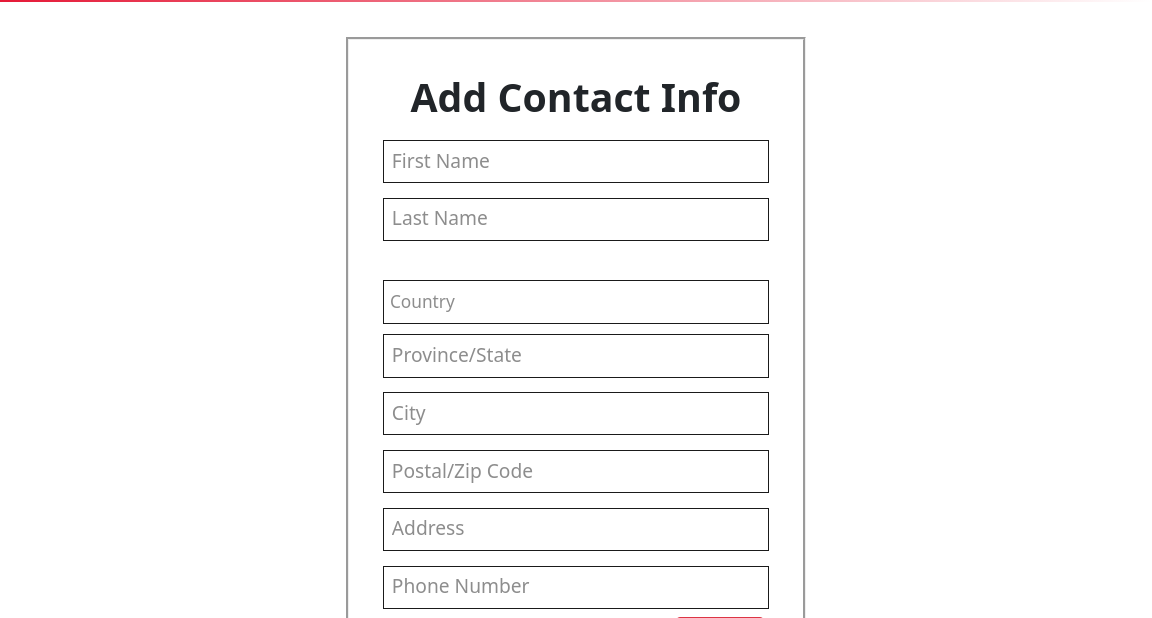
test full name
Type "123badName //\"!%^$#SQLinjection" into the field with placeholder "First Name". click: {"x": 576, "y": 162}
box: x1=383 y1=140 x2=769 y2=183
(page scrolled)
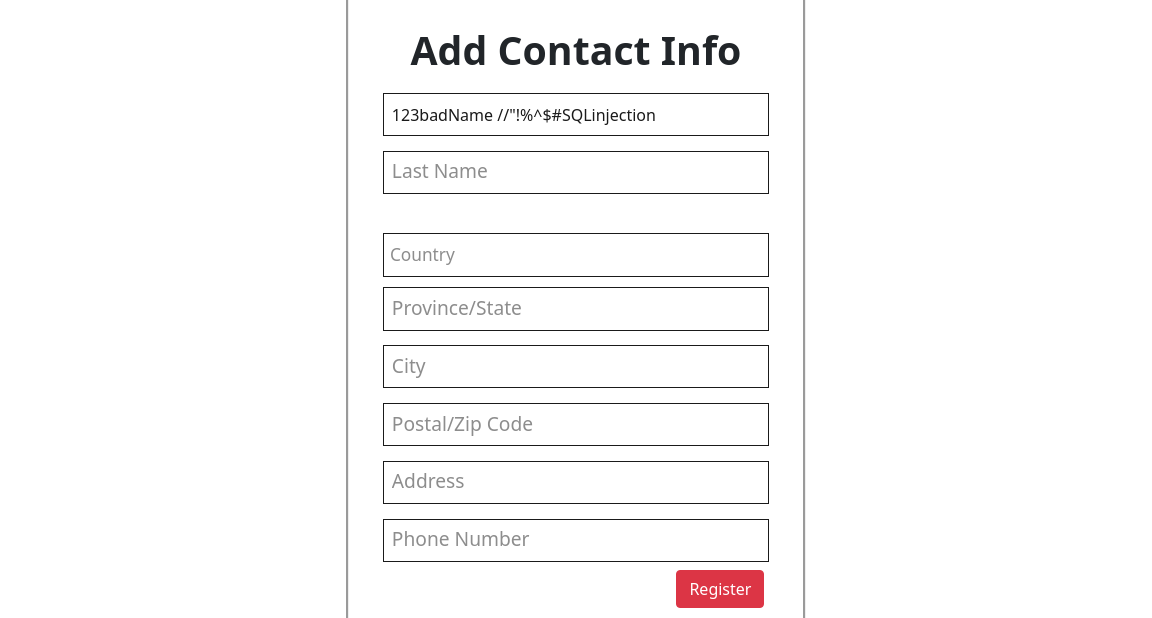
Click the button "Register". click: {"x": 720, "y": 589}
box: x1=676 y1=570 x2=764 y2=608
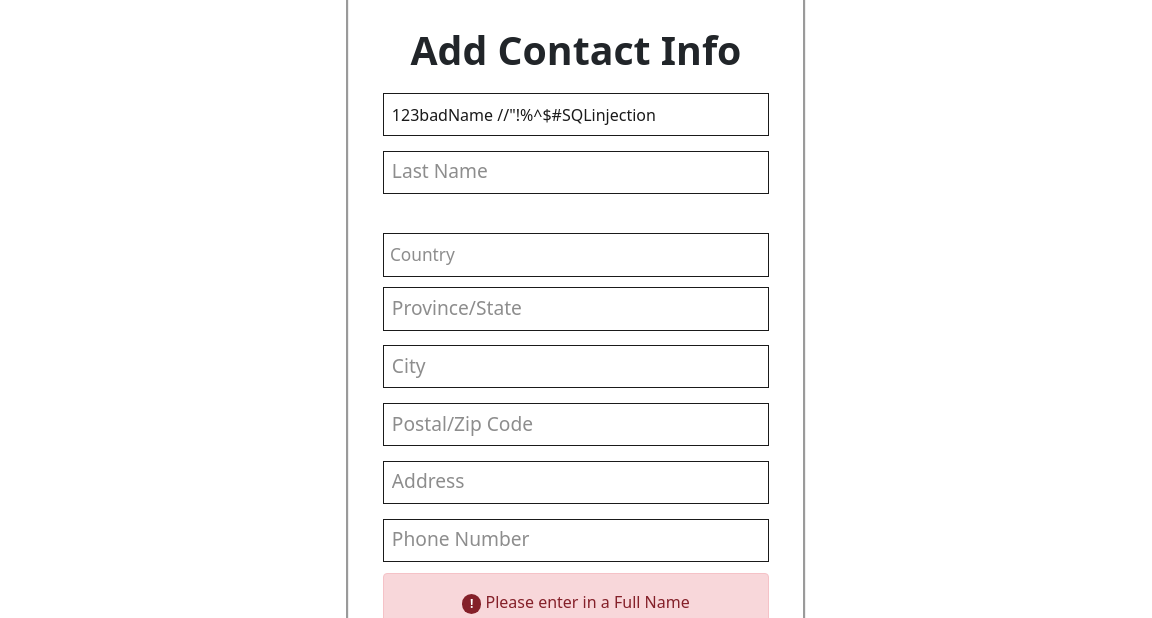
Expected: the text "Please enter in a Full Name" is shown, x1=481 y1=591 x2=690 y2=613
